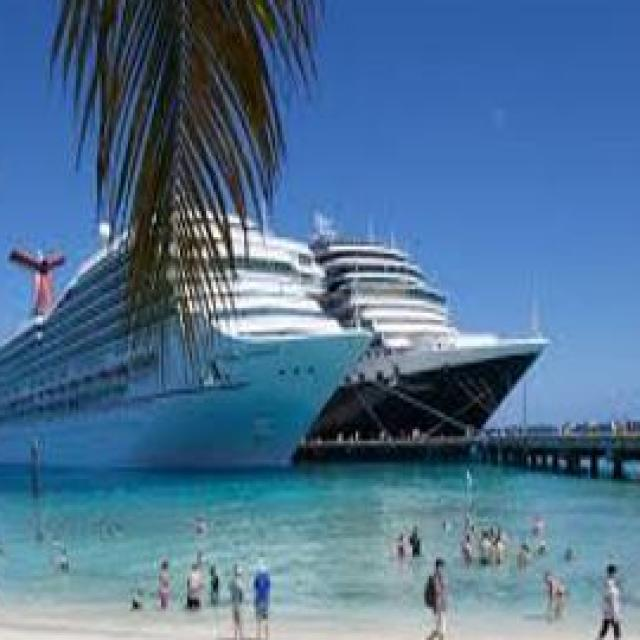passenger ship: (0, 197, 372, 476), (298, 206, 548, 446)
